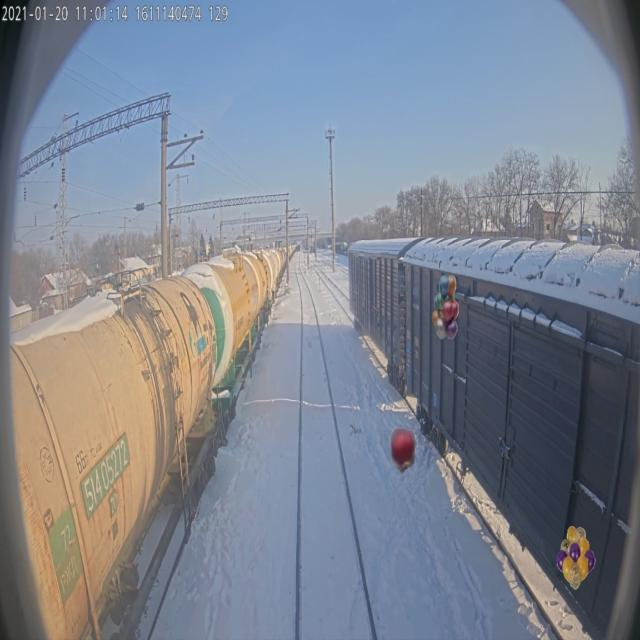balloon: (556, 526, 596, 590), (383, 422, 421, 487), (432, 275, 459, 339)
